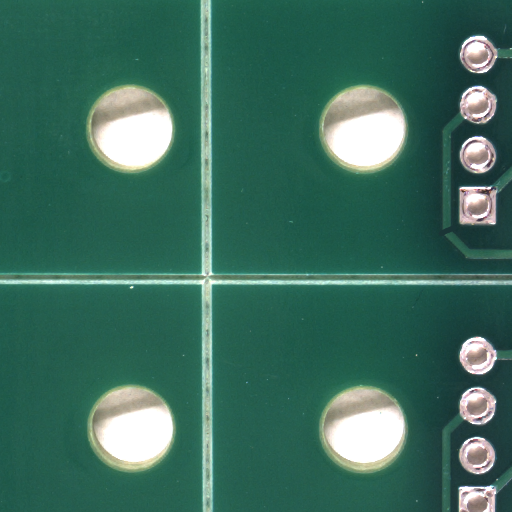Open_circuit: (446, 230, 463, 240)
